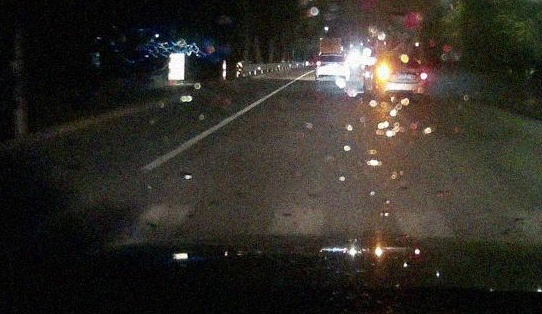L_light: (376, 65, 391, 79)
R_light: (420, 72, 428, 80)
T_light: (399, 57, 410, 61)
night-left: (376, 49, 429, 103)
